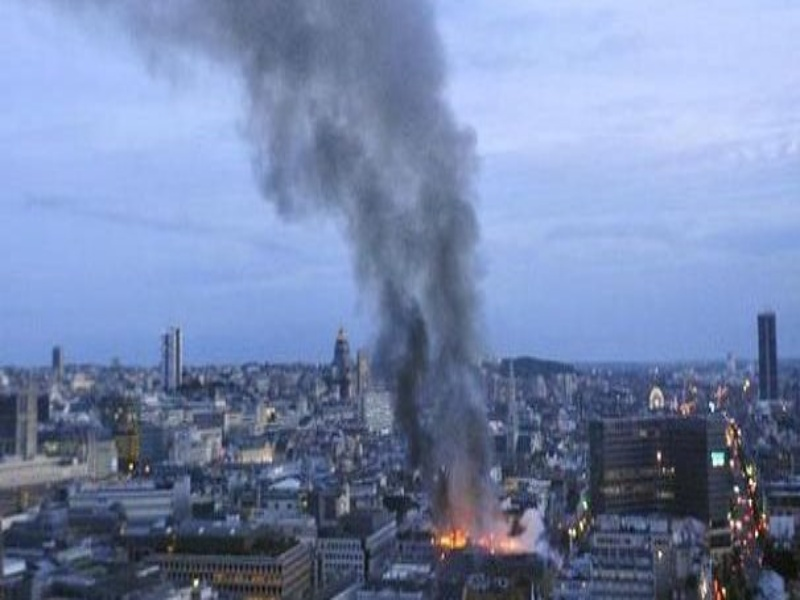smoke: (245, 1, 492, 526)
